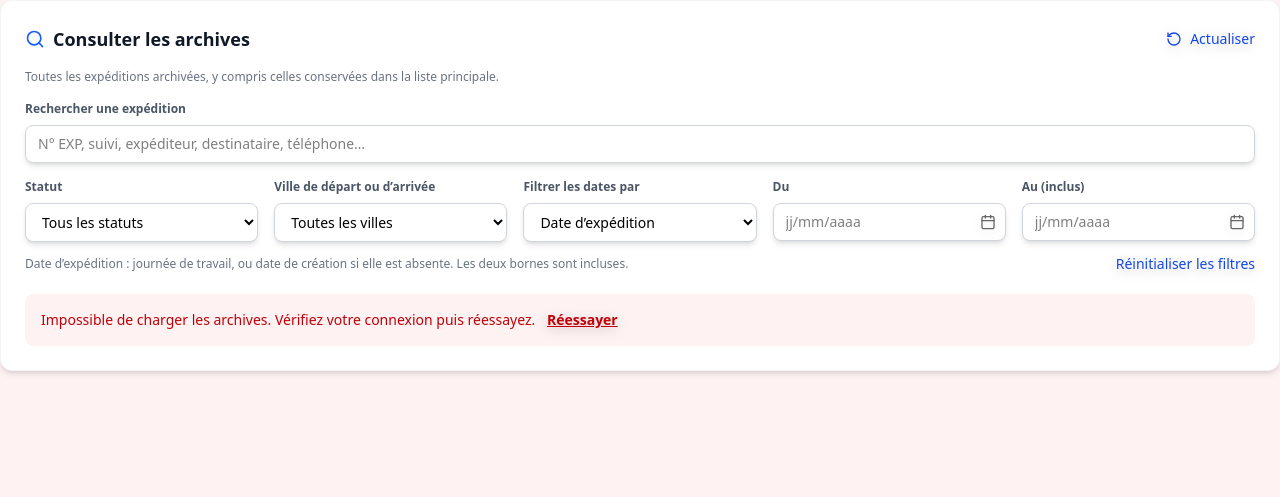
Test case: Admin archive filters › shows a retryable error instead of claiming that archives are empty
Expected: the message shows "Impossible de charger", [41,310,535,329]
Click the button "Réessayer": (582, 320) [547,310,618,330]
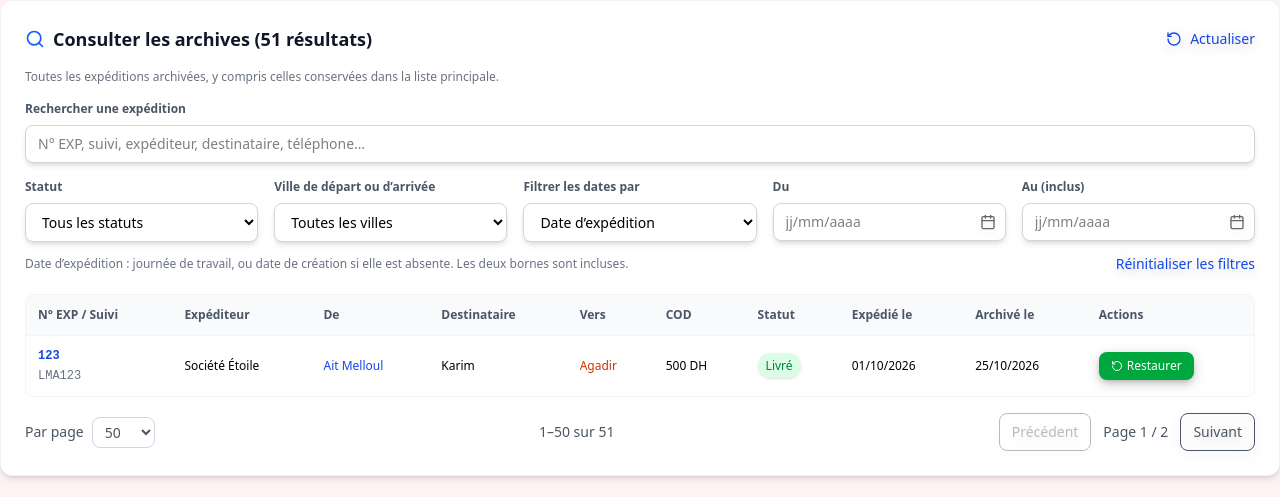
Now the text "Société Étoile" is shown, box [172,336,312,396]
